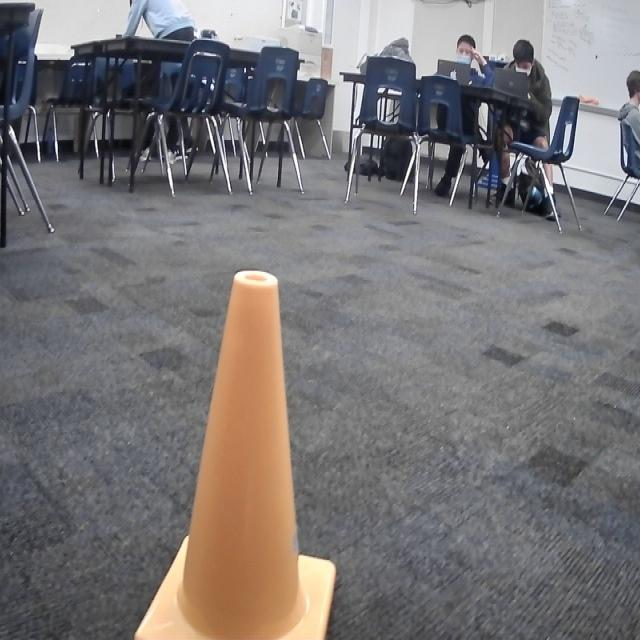cone: (133, 265, 340, 640)
